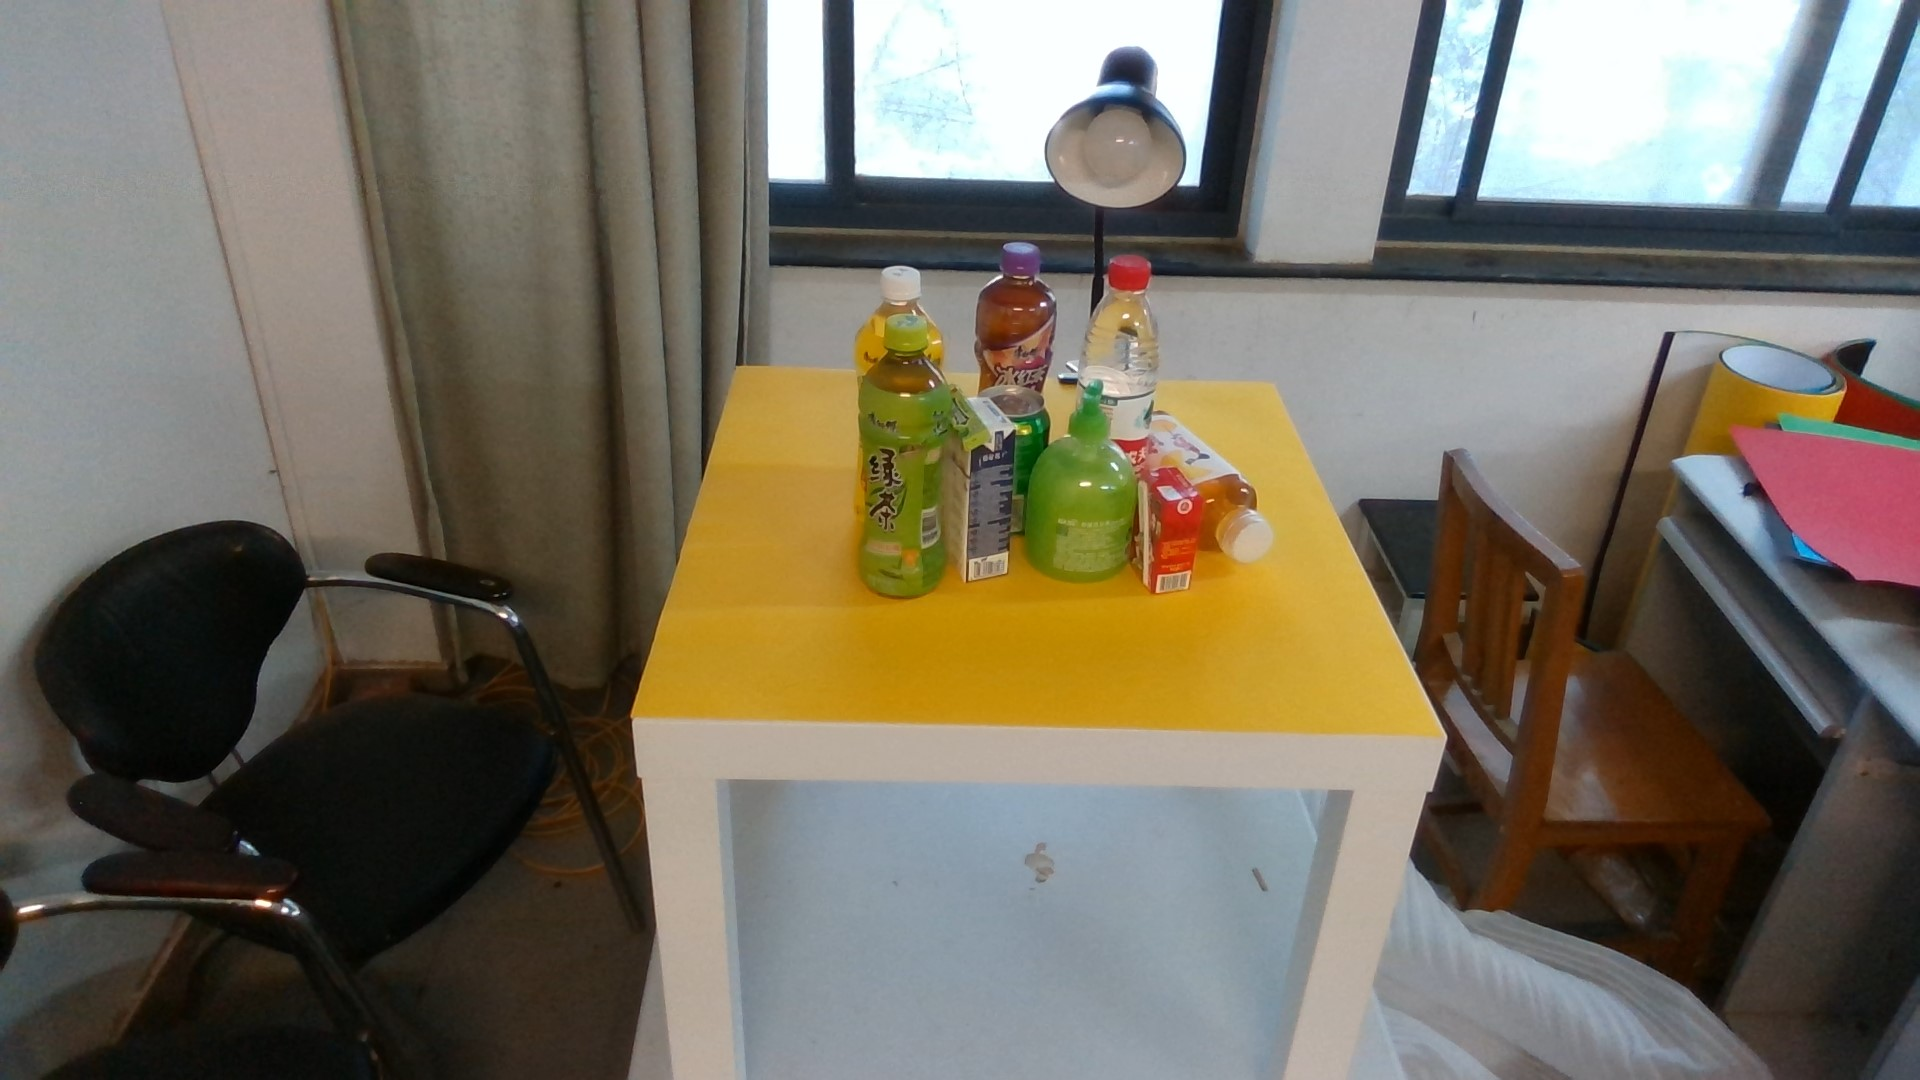BB002: (947, 377, 986, 448)
BB010: (947, 448, 1011, 587)
BB012: (1137, 467, 1201, 592)
ZA002: (1027, 448, 1135, 580)
ZC001: (1013, 388, 1050, 448)
ZC009: (977, 239, 1054, 386)
ZC010: (858, 313, 947, 605)
ZC011: (876, 262, 932, 310)
ZC012: (1200, 444, 1270, 563)
ZC014: (1101, 251, 1159, 444)
